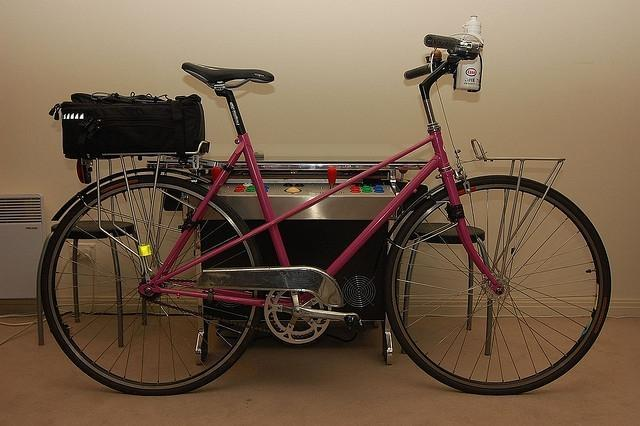bicycle: (42, 36, 612, 398)
